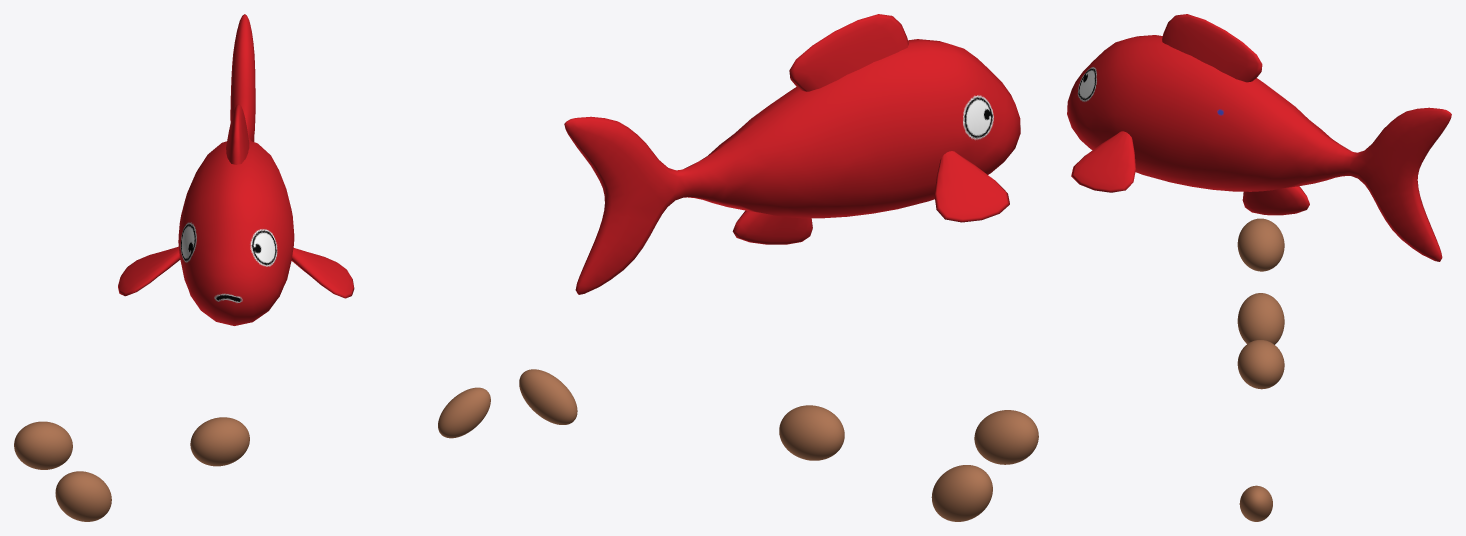
Rendered from Fisch.glb.
3 renders of one model, left to right at view 1: azimuth 30°, elevation 25°; view 2: azimuth 150°, elevation 25°; view 3: azimuth 270°, elevation 25°, orthographic. The views are drawn at different scales.
Parts seen in each view (by area): view 1: mesh_id34, mesh_id78, mesh_id77, mesh_id46, mesh_id48; view 2: mesh_id34, mesh_id78, mesh_id77, mesh_id46, mesh_id48; view 3: mesh_id34, mesh_id77, mesh_id46, mesh_id78, mesh_id48.
Part boxes in pixels (<box>): mesh_id34: <box>118,14,354,325</box>; mesh_id78: <box>190,417,249,466</box>; mesh_id77: <box>14,421,72,469</box>; mesh_id46: <box>55,471,111,521</box>; mesh_id48: <box>438,387,490,438</box>; mesh_id34: <box>564,14,1020,294</box>; mesh_id78: <box>779,405,844,460</box>; mesh_id77: <box>974,410,1038,464</box>; mesh_id46: <box>931,465,992,521</box>; mesh_id48: <box>519,369,577,424</box>; mesh_id34: <box>1067,14,1451,261</box>; mesh_id77: <box>1237,218,1284,271</box>; mesh_id46: <box>1237,293,1284,344</box>; mesh_id78: <box>1237,340,1284,389</box>; mesh_id48: <box>1239,485,1272,521</box>.
Size of the model in its own units: 0.4908 by 0.4059 by 0.3653.
4 materials, 4 textured.
